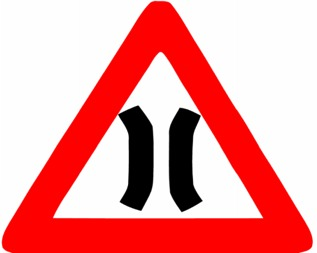narrow-road: (109, 101, 211, 217)
